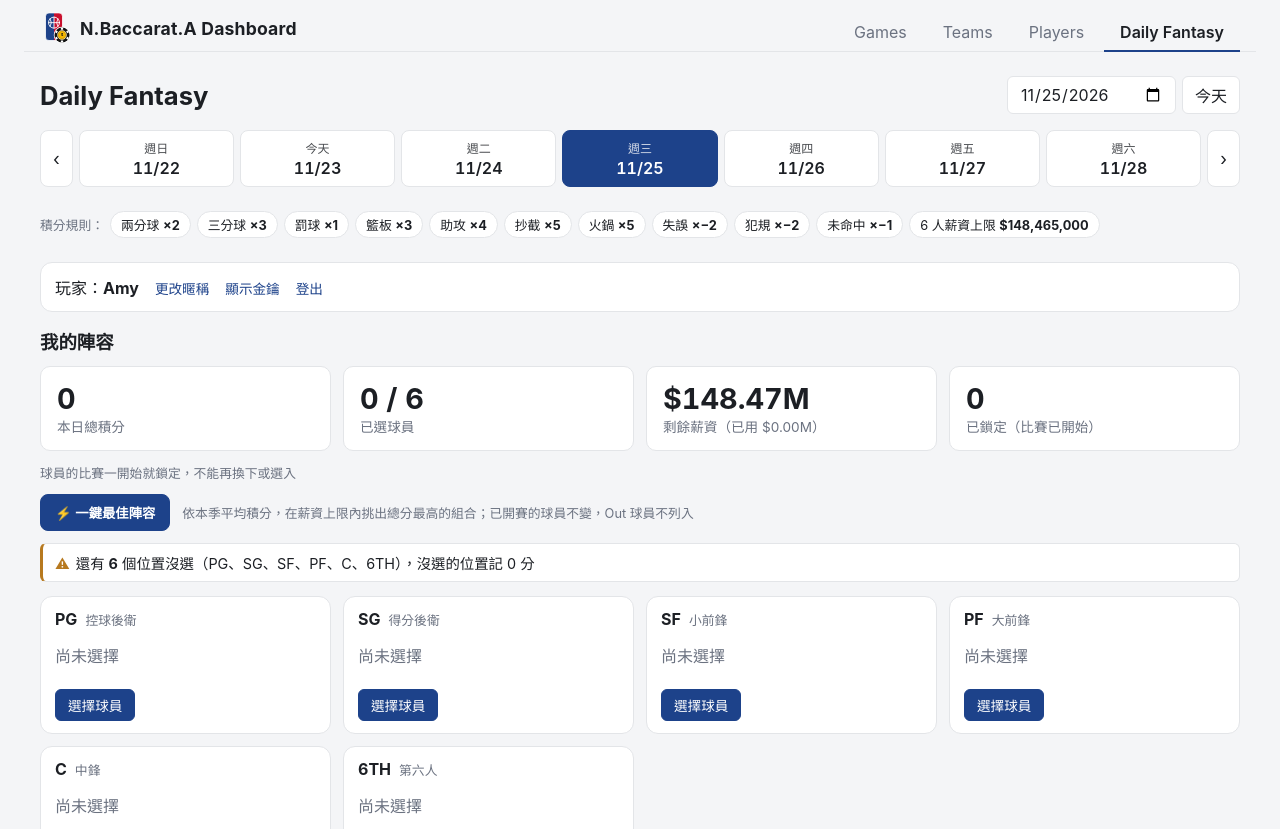
Scenario: a player can change their nickname
The image size is (1280, 829).
Click the button "更改暱稱": x=182, y=288 [155, 278, 209, 298]
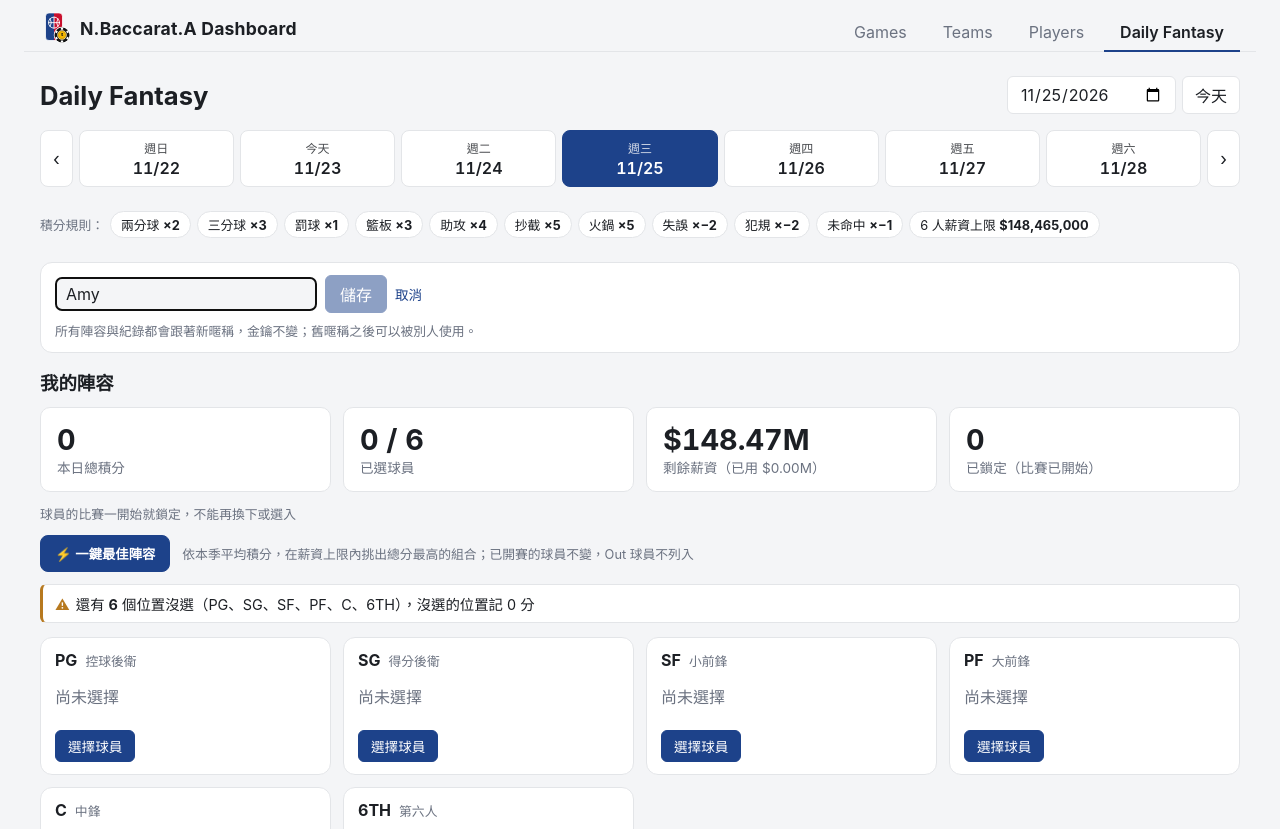
Now the field named "新暱稱" holds "Amy"
Now the button "儲存" is disabled, box [325, 275, 387, 313]
Replace the text in the field named "新暱稱" with "Bob": x=186, y=294 [55, 277, 317, 311]
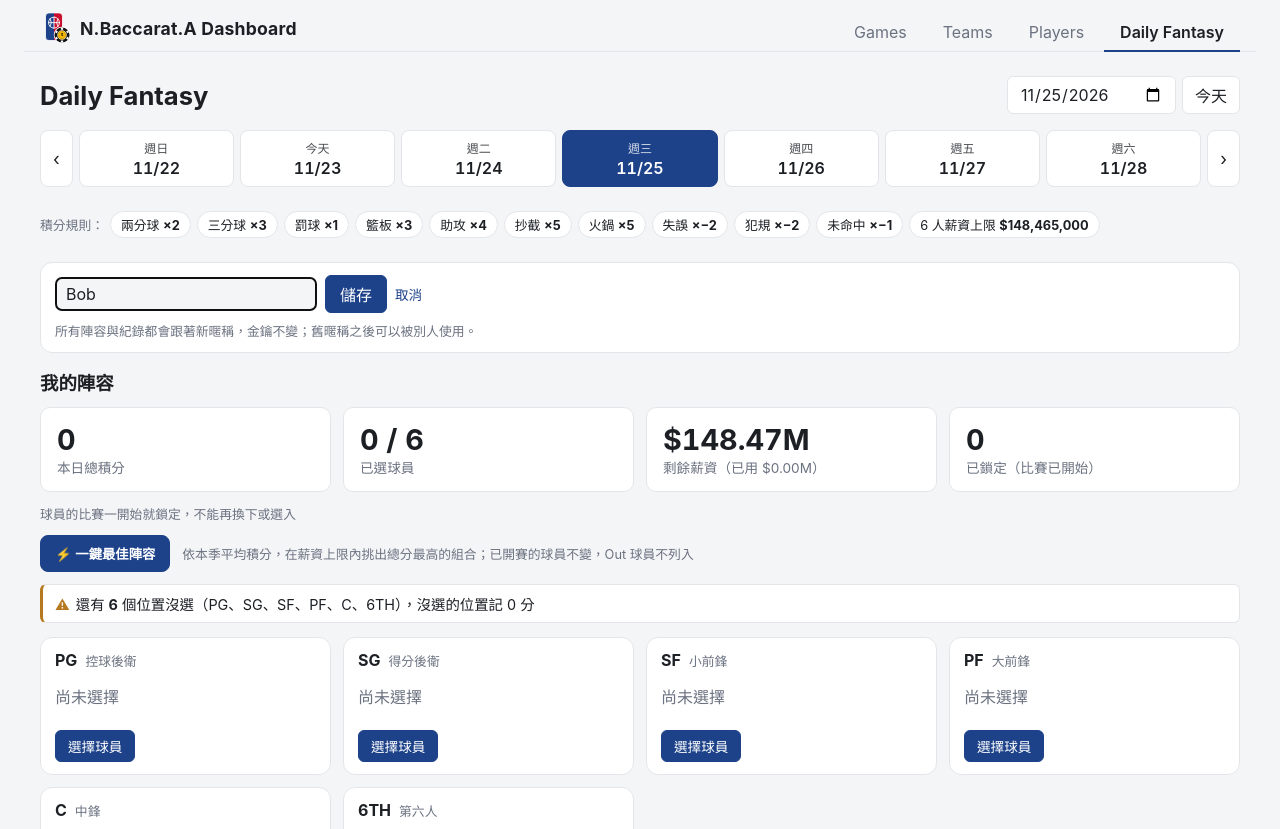
Click the button "儲存": x=356, y=294 [325, 275, 387, 313]
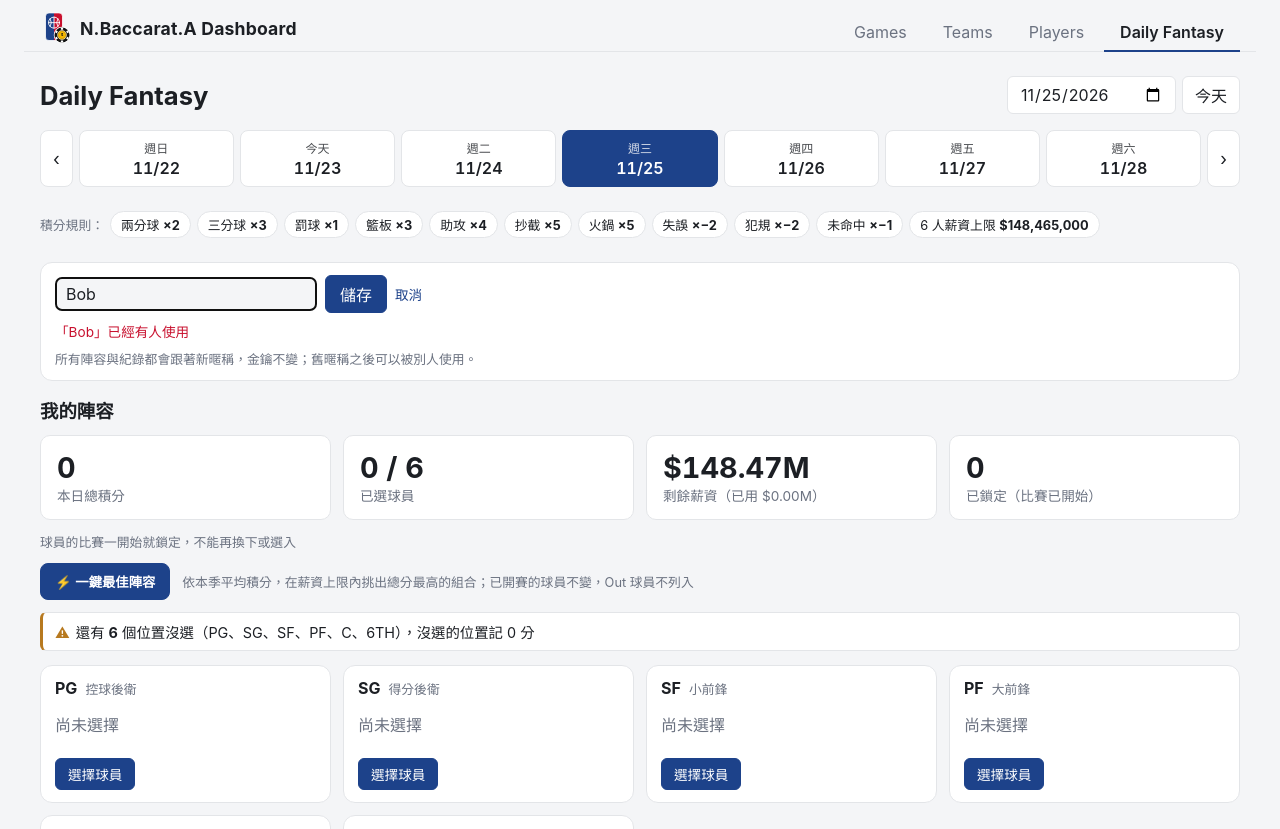
Now the text "「Bob」已經有人使用" is shown, box [55, 324, 189, 340]
Replace the text in the field named "新暱稱" with "Amelia": x=186, y=294 [55, 277, 317, 311]
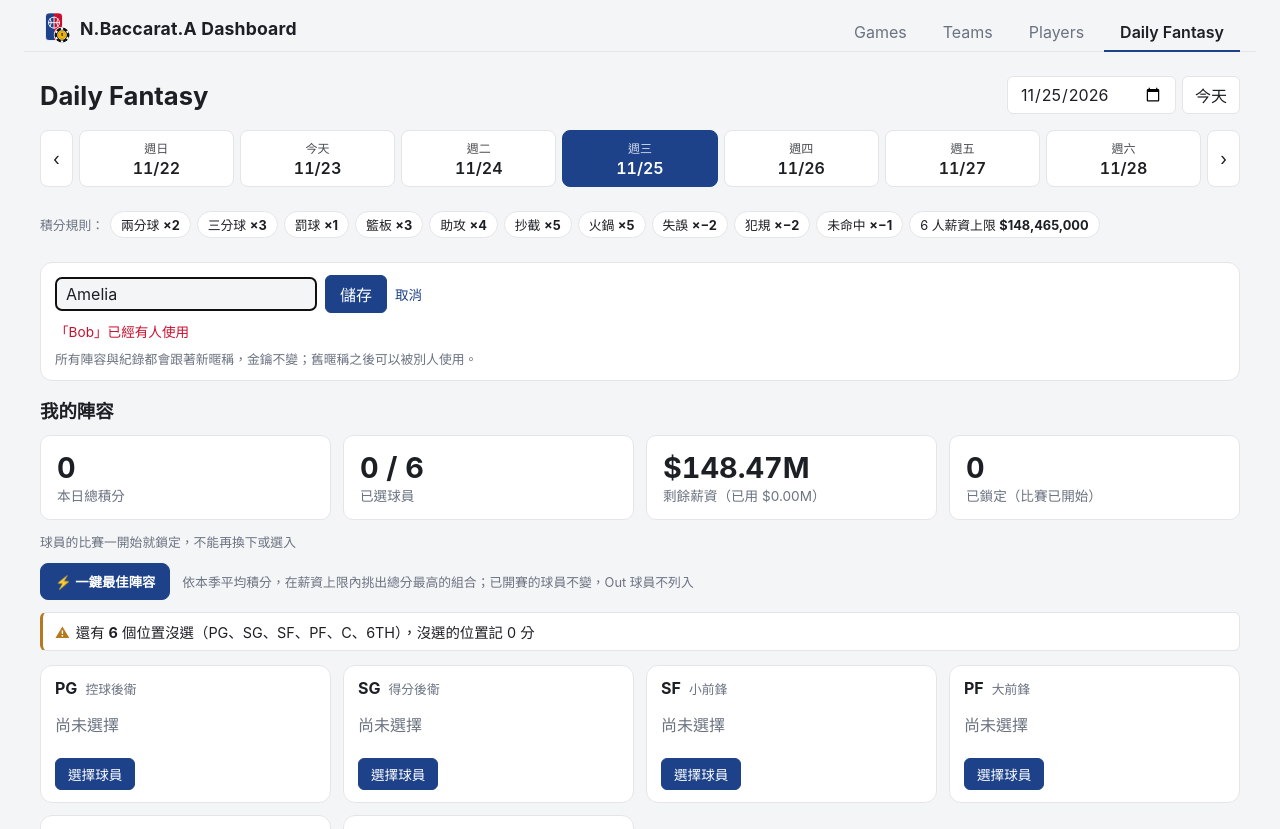
Click the button "儲存": x=356, y=294 [325, 275, 387, 313]
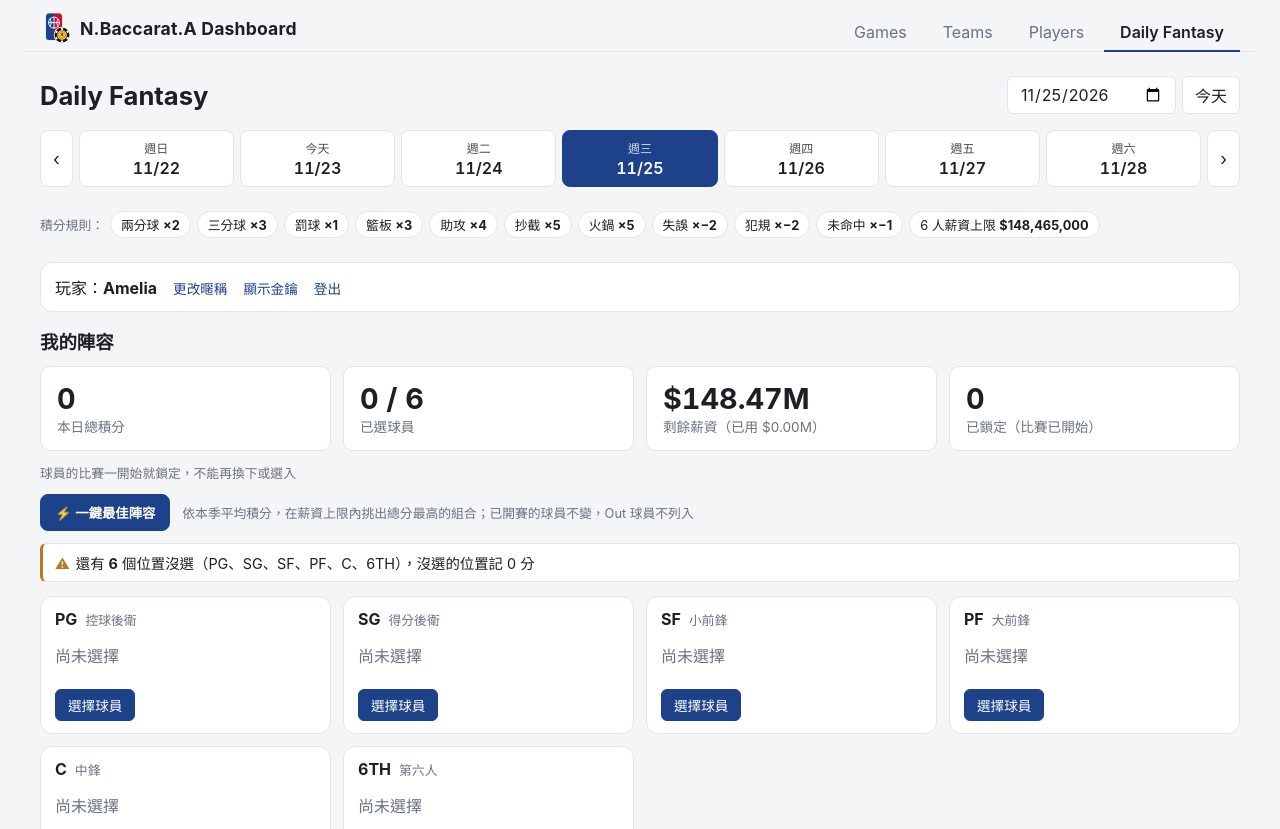
Now the text "Amelia" is shown, box [103, 278, 157, 298]
